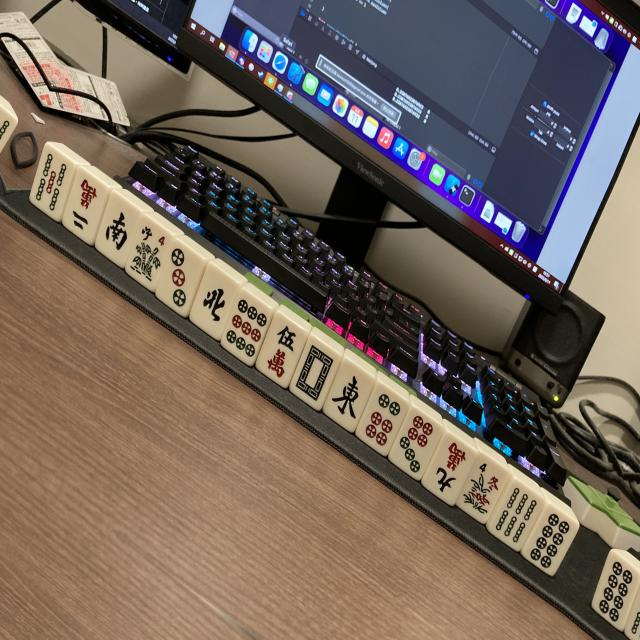bai: (288, 336, 346, 408)
east: (320, 357, 379, 433)
f4: (121, 216, 176, 290)
ff4: (456, 455, 516, 525)
m2: (57, 167, 113, 244)
m5: (252, 313, 313, 389)
m9: (422, 430, 481, 504)
north: (186, 265, 244, 337)
s5: (26, 145, 80, 220)
s6: (486, 480, 548, 551)
south: (91, 192, 145, 266)
t3: (152, 241, 210, 316)
t6: (354, 384, 412, 457)
t7: (388, 405, 447, 479)
t8: (520, 504, 581, 576), (588, 554, 640, 632)
t9: (218, 291, 276, 365)
